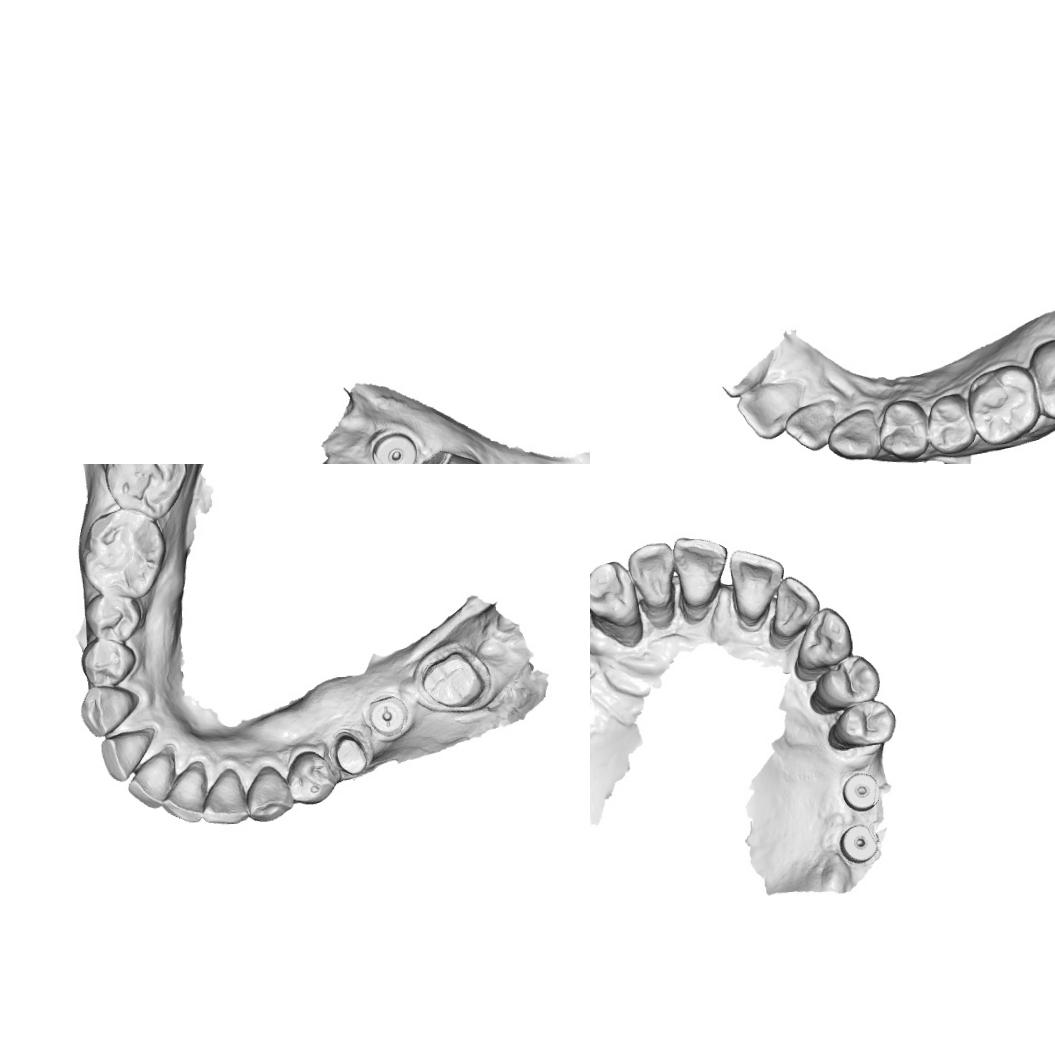canine: (794, 604, 854, 672), (590, 558, 642, 630), (77, 683, 140, 738), (825, 406, 882, 462), (246, 762, 294, 824)
crown: (420, 649, 485, 710), (330, 729, 372, 777)
implant: (837, 822, 881, 866), (370, 428, 421, 464), (840, 769, 882, 812)
implant_minus: (367, 693, 408, 736)
incisor: (727, 546, 788, 625), (734, 380, 808, 441), (669, 534, 730, 608), (769, 573, 821, 640), (626, 540, 677, 608), (158, 761, 212, 825), (124, 748, 176, 812), (784, 398, 841, 453), (100, 731, 154, 783), (202, 766, 248, 826)
molar: (80, 508, 165, 602), (966, 363, 1040, 447), (100, 464, 190, 517), (1030, 334, 1055, 421)
premolar: (812, 651, 882, 711), (830, 698, 898, 751), (877, 398, 933, 461), (283, 748, 342, 806), (926, 392, 979, 454), (80, 594, 140, 644), (80, 638, 137, 688)
